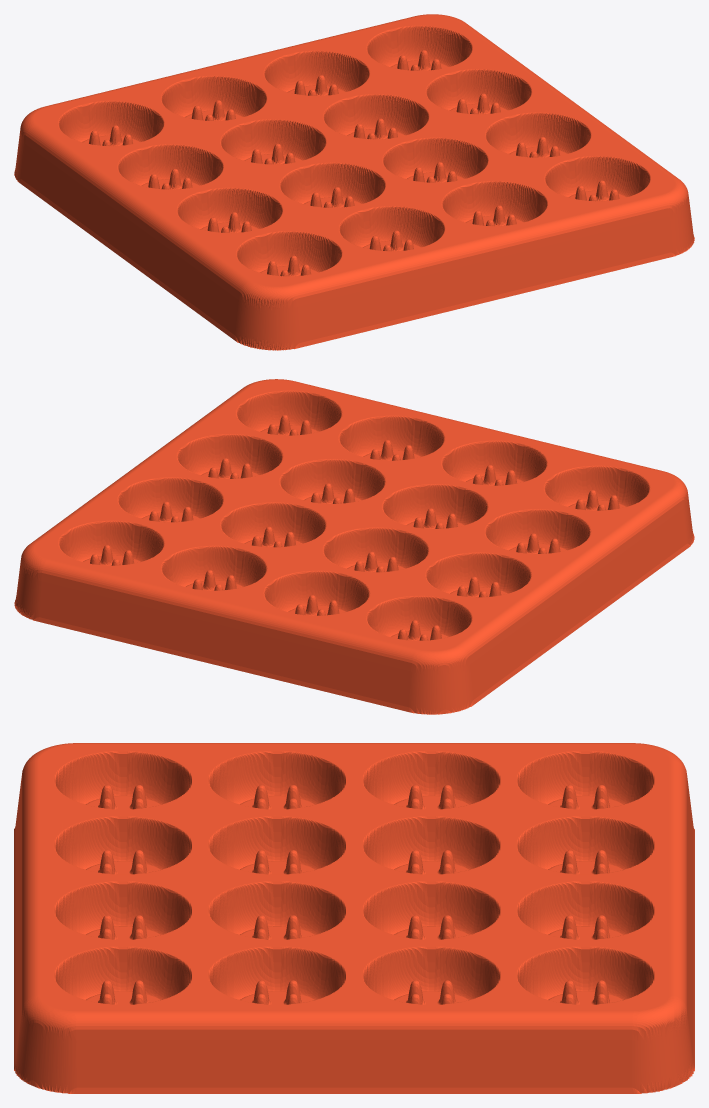
Rendered from mold.glb.
3 views of the same model, one above another, from view 1: azimuth 30°, elevation 25°; view 2: azimuth 150°, elevation 25°; view 3: azimuth 270°, elevation 25° (orthographic). The views are drawn at different scales.
Parts seen in each view (by area): view 1: geometry_0; view 2: geometry_0; view 3: geometry_0.
Part boxes in pixels (x1=…): geometry_0: x1=14, y1=14, x2=694, y2=350; geometry_0: x1=14, y1=379, x2=694, y2=714; geometry_0: x1=14, y1=743, x2=694, y2=1093.
Bounding box in the file's own units: 0.0972 × 0.0114 × 0.0972.
